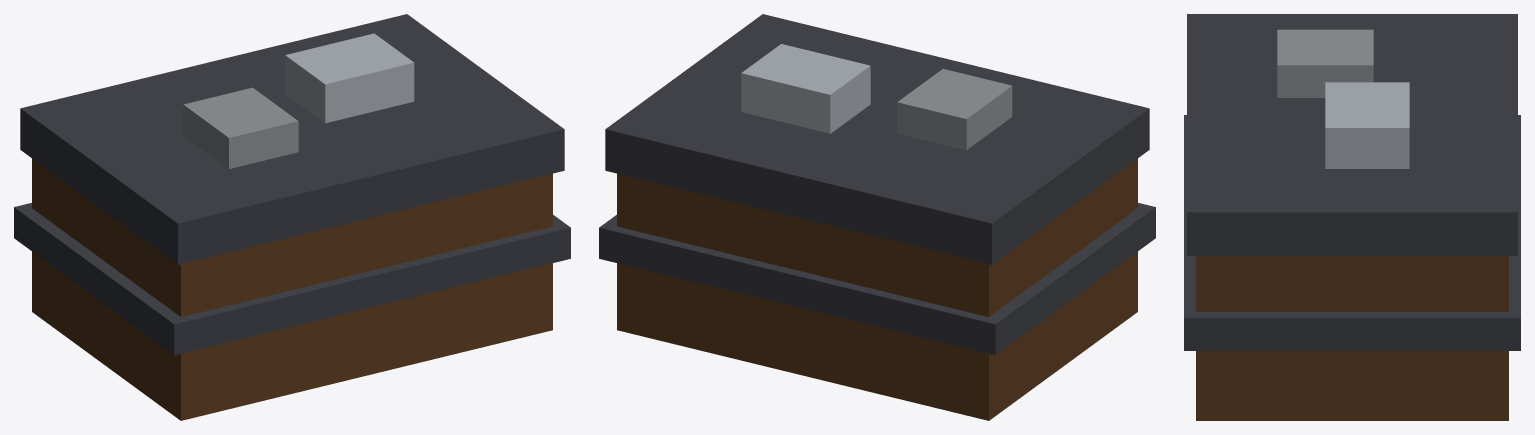
File: held_tinderbox.glb
3 views of the same model, side by side, from view 1: azimuth 30°, elevation 25°; view 2: azimuth 150°, elevation 25°; view 3: azimuth 270°, elevation 25° (orthographic). The views are drawn at different scales.
Parts seen in each view (by area): view 1: held_tinderbox; view 2: held_tinderbox; view 3: held_tinderbox.
Part boxes in pixels (x1,y1,x2,y2): held_tinderbox: (14, 14, 570, 420); held_tinderbox: (599, 14, 1155, 420); held_tinderbox: (1184, 14, 1520, 420).
Bounding box in the file's own units: 0.16 × 0.093 × 0.112.
